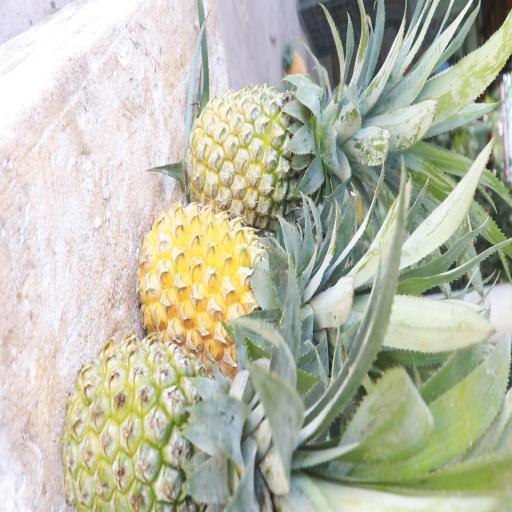------------------------------: (70, 331, 275, 511), (190, 81, 338, 219)
Pineapple - v8 v1: (140, 197, 296, 356)
